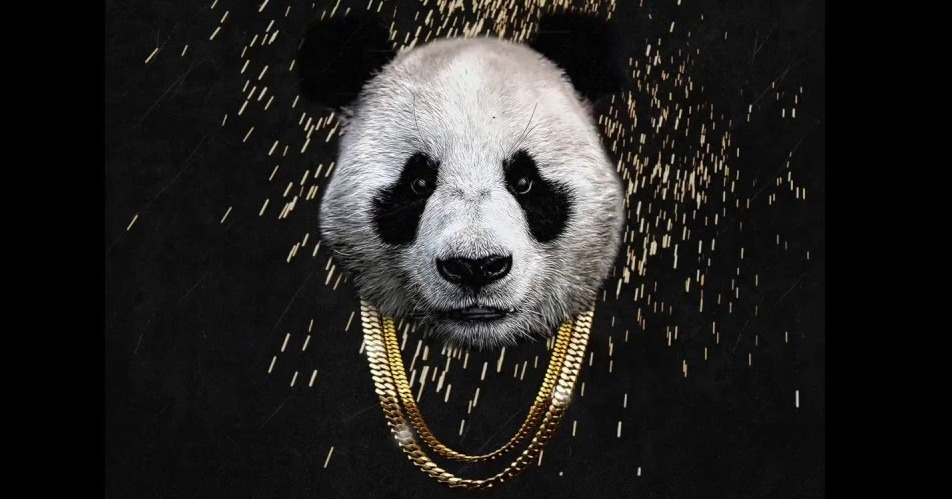panda: (297, 39, 697, 367)
